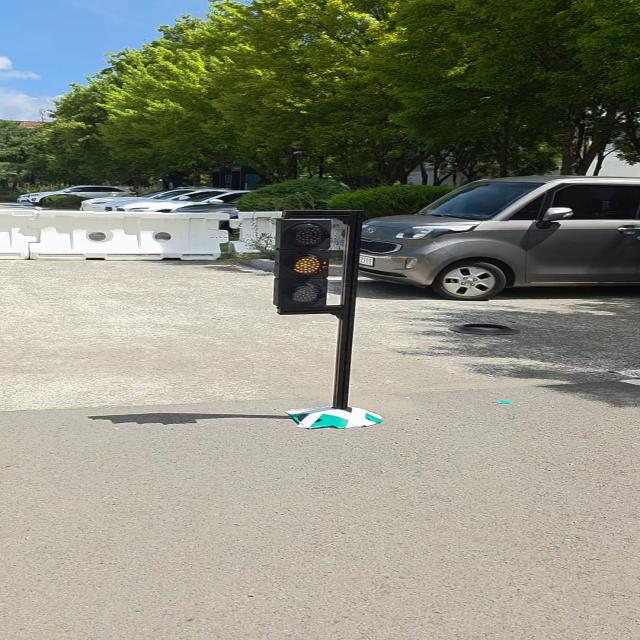yellow: (278, 211, 328, 313)
